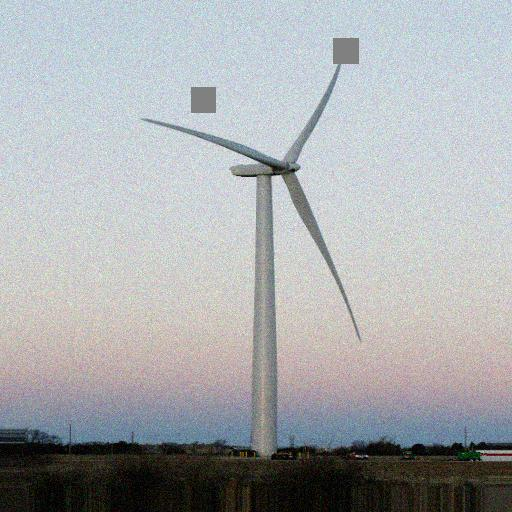wind turbine: (138, 46, 364, 446)
